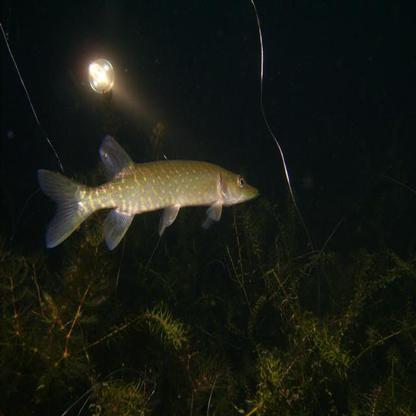fish: (37, 134, 261, 252)
